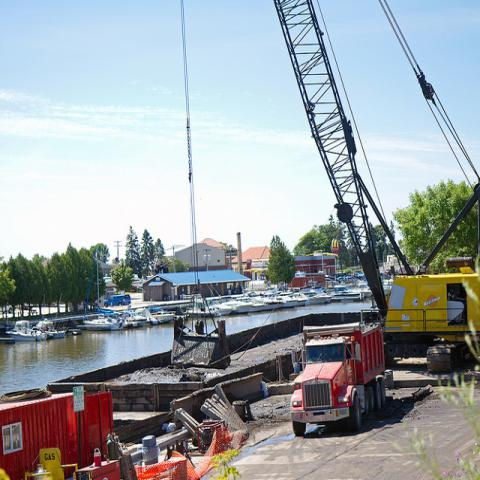truck: (0, 391, 125, 480), (291, 326, 389, 432), (382, 272, 479, 362), (103, 295, 131, 307), (332, 272, 347, 278)
